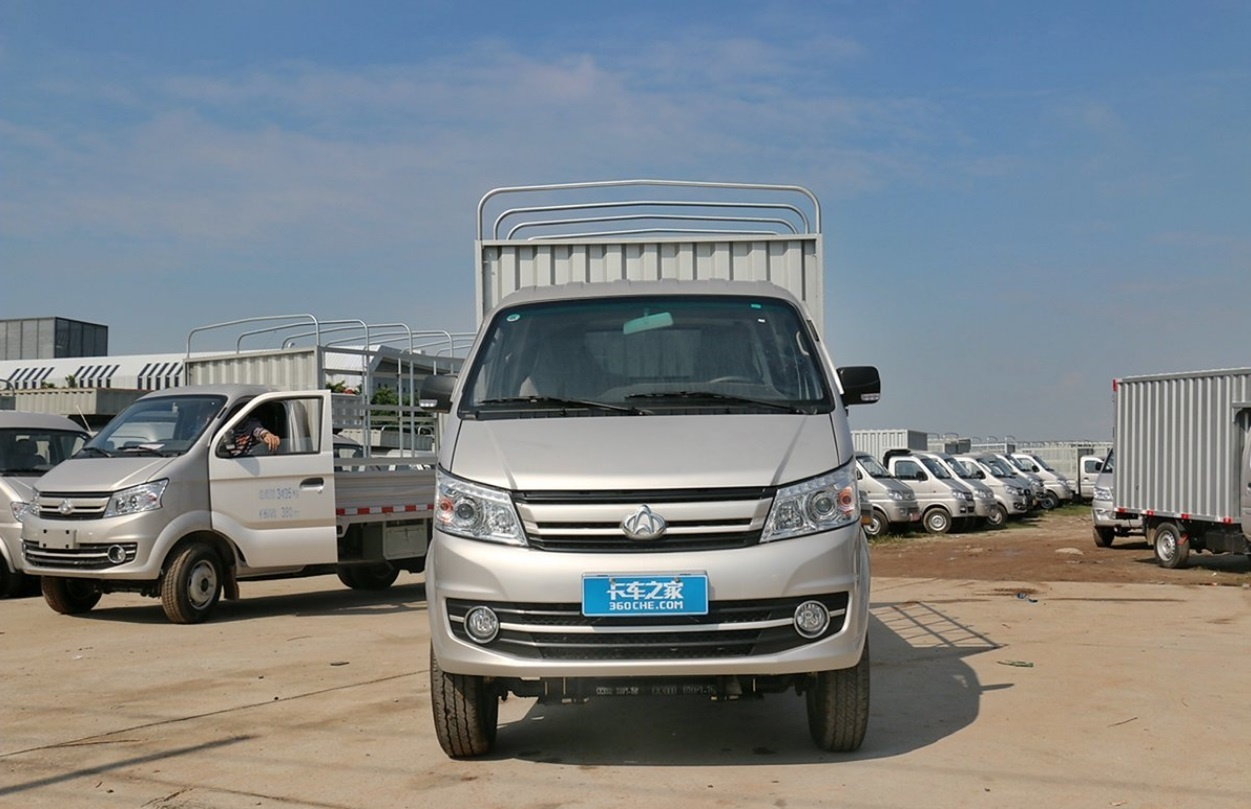truck: (443, 179, 899, 766)
